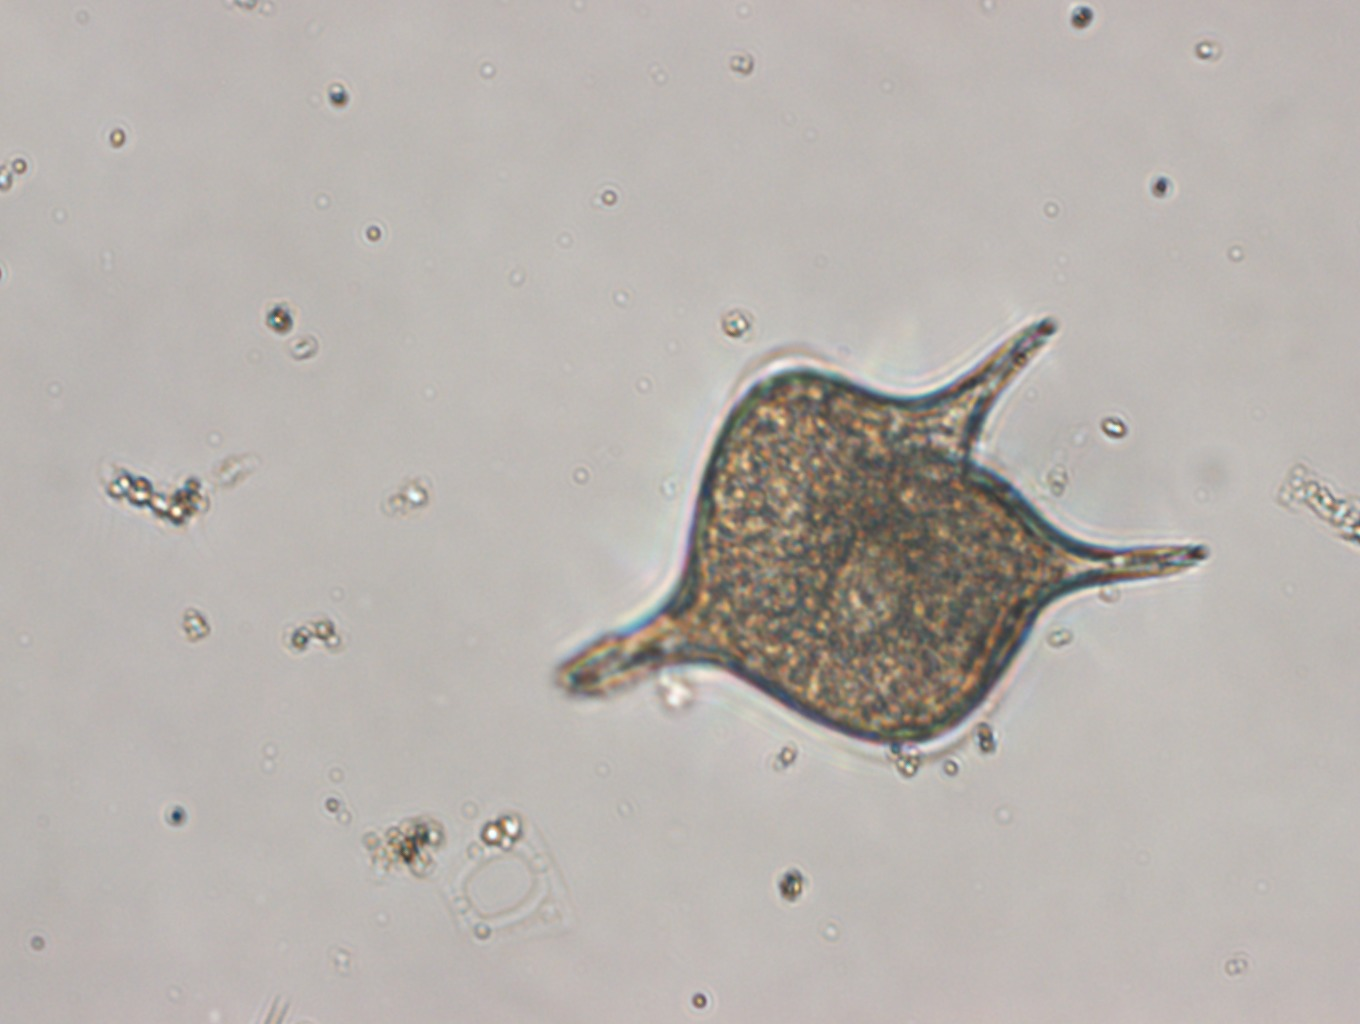protoperidinium: (547, 285, 1219, 766)
